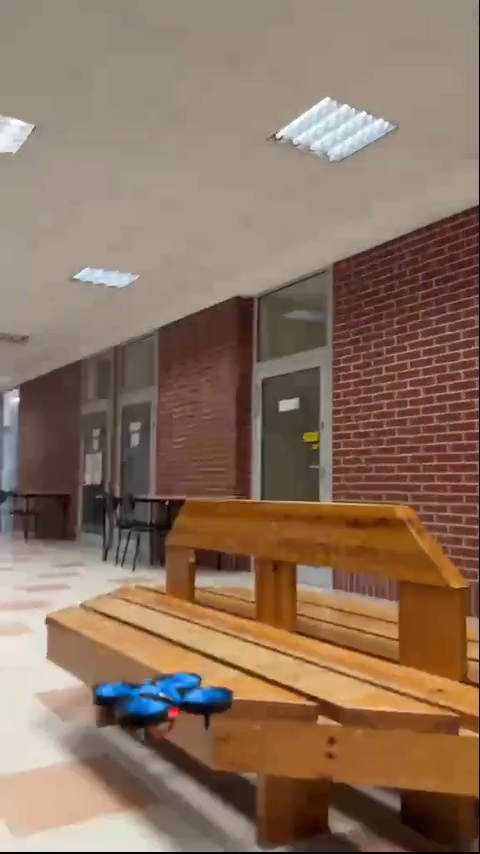drone: (98, 673, 219, 739)
